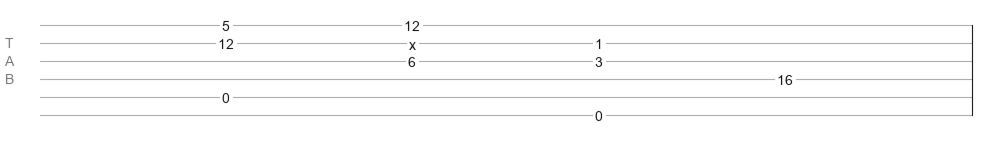0: (222, 90, 230, 100), (595, 108, 603, 118)
1: (595, 36, 603, 46)
12: (218, 36, 234, 46), (404, 18, 420, 28)
16: (777, 72, 793, 82)
3: (595, 54, 603, 64)
5: (222, 18, 230, 28)
6: (408, 54, 416, 64)
x: (409, 37, 416, 45)
